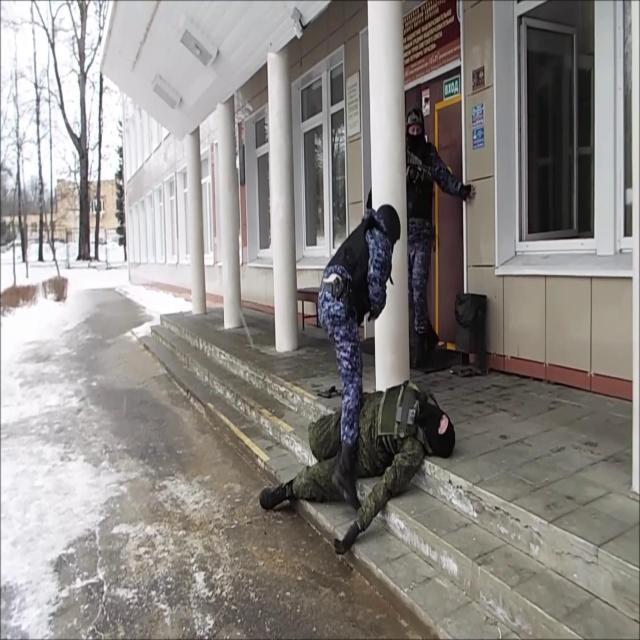pistol: (406, 144, 434, 184), (342, 274, 356, 320)
